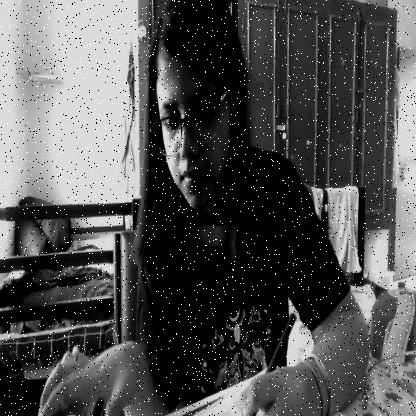Distracted: (149, 0, 238, 226)
